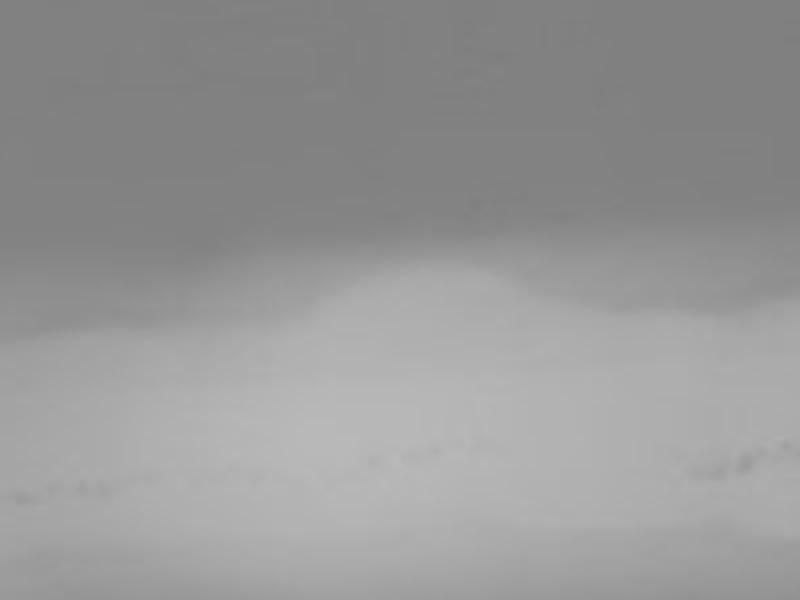defect: (684, 462, 732, 485), (737, 447, 770, 475), (5, 485, 40, 504), (78, 474, 94, 499), (49, 476, 67, 496), (101, 481, 117, 503)
